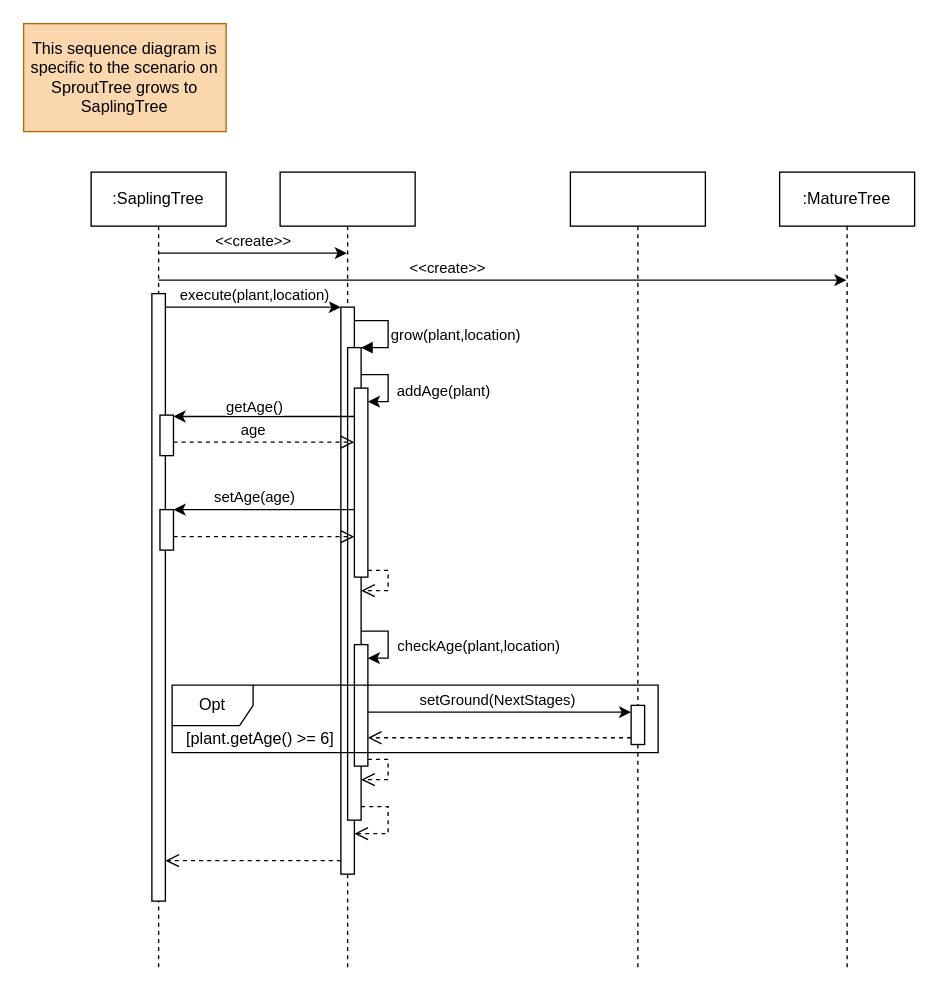
Some shapes in this 938 by 992 pixel diagram are drawn without their labels. Here are the shapes that lost their labels. From the top down, the box of each, then its label:
(279, 171, 415, 969): :GrowBehaviour
(569, 171, 705, 969): :Location
